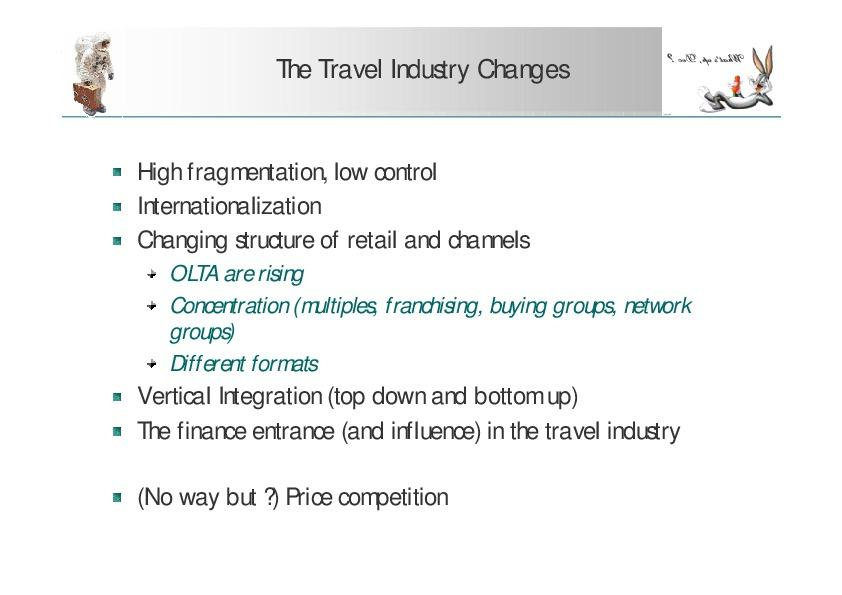paragraph: (107, 146, 740, 541)
title: (268, 51, 581, 91)
